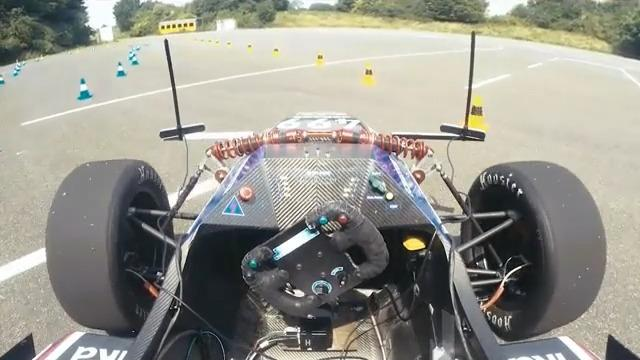blue_cone: (77, 78, 93, 101), (114, 61, 127, 77)
yellow_cone: (462, 91, 489, 134), (359, 63, 376, 88)
